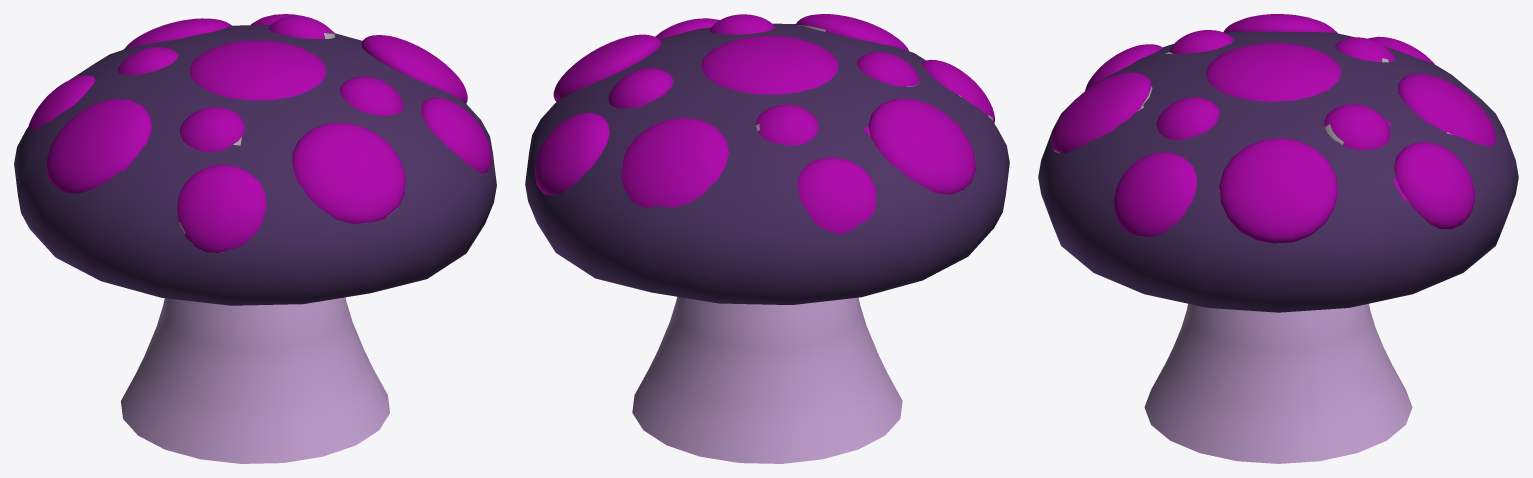
Rendered from hongoMoradoRosado.fbx.
3 renders of one model, left to right at view 1: azimuth 30°, elevation 25°; view 2: azimuth 150°, elevation 25°; view 3: azimuth 270°, elevation 25°, orthographic.
Visible parts, largest first — view 1: Hongo; view 2: Hongo; view 3: Hongo.
Part boxes in pixels (x1=…): Hongo: x1=14, y1=14, x2=496, y2=463; Hongo: x1=525, y1=14, x2=1009, y2=463; Hongo: x1=1038, y1=14, x2=1518, y2=463.
Size of the model in its own units: 4 by 3.2 by 4.
